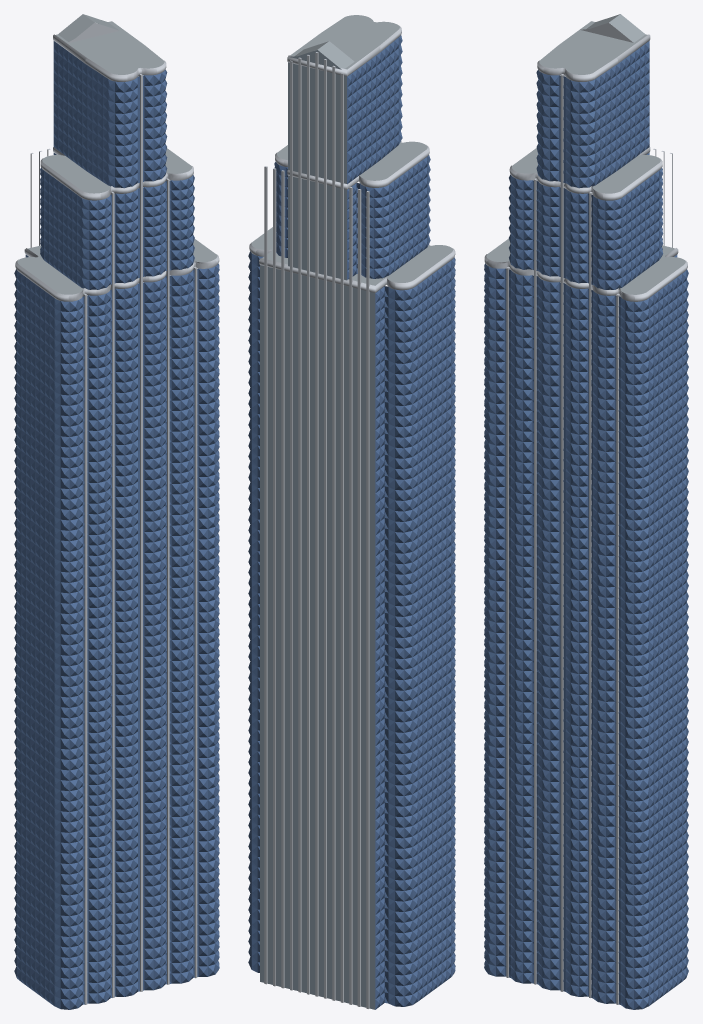
Rendered from shenzhen-china-merchants-bank-hq.detail.glb.
3 renders of one model, left to right at view 1: azimuth 30°, elevation 25°; view 2: azimuth 150°, elevation 25°; view 3: azimuth 330°, elevation 25°, orthographic.
Parts seen in each view (by area): view 1: China Merchants Bank Global Headquarters; view 2: China Merchants Bank Global Headquarters; view 3: China Merchants Bank Global Headquarters.
Part boxes in pixels (x1,y1,x2,y2): China Merchants Bank Global Headquarters: (14, 14, 219, 1009); China Merchants Bank Global Headquarters: (248, 15, 455, 1009); China Merchants Bank Global Headquarters: (484, 14, 688, 1009).
Bounding box in the file's own units: 72.39 × 393 × 47.8.
